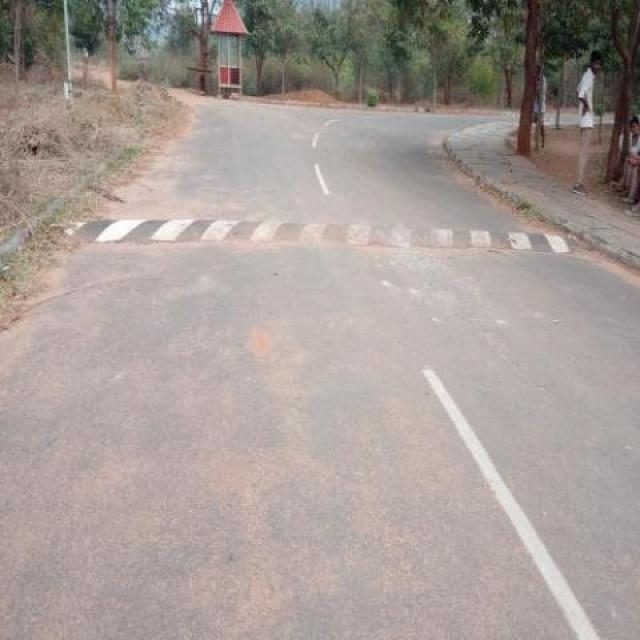Speed Bump: (68, 212, 579, 256)
